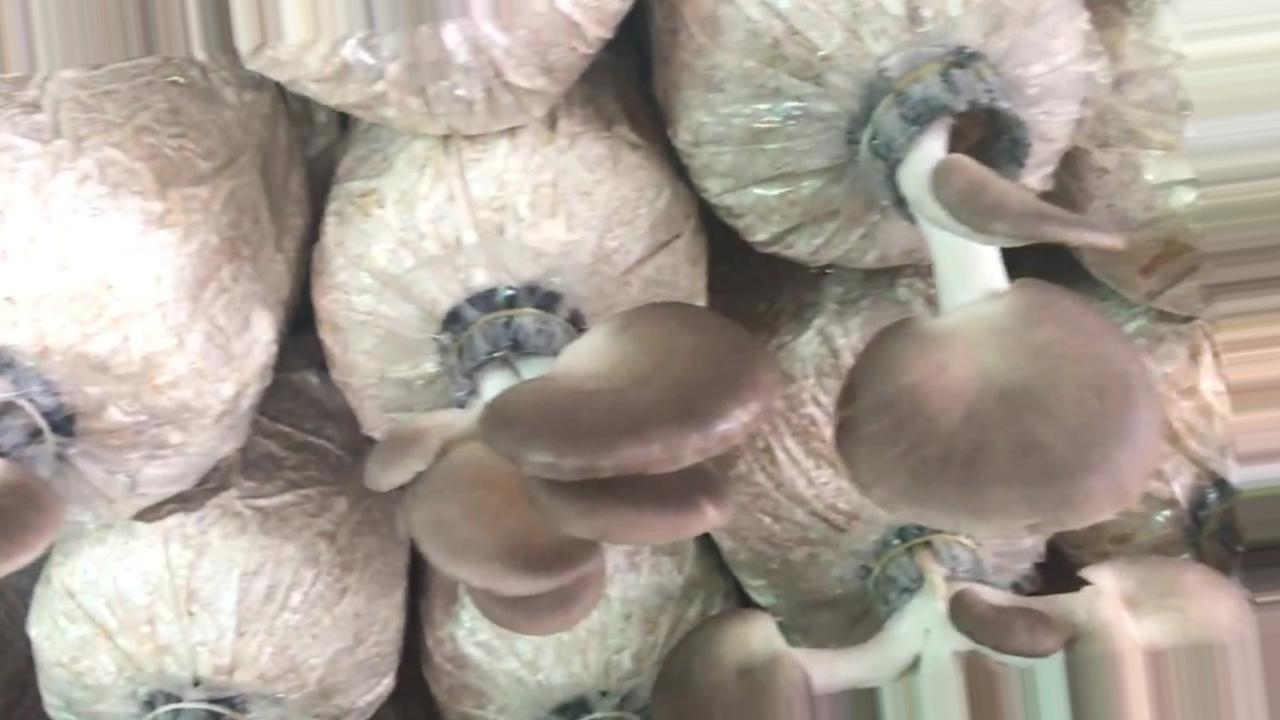nam: (831, 55, 1155, 541), (361, 295, 785, 639), (642, 528, 1257, 720)
